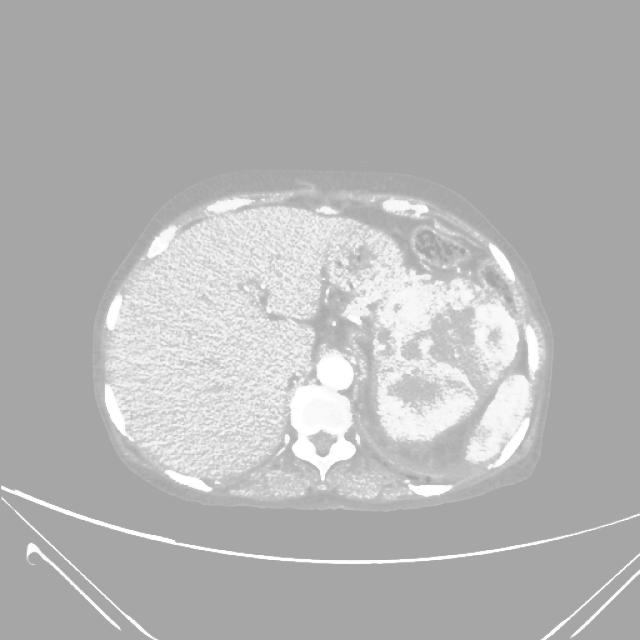TUMOR: (343, 271, 568, 508)
